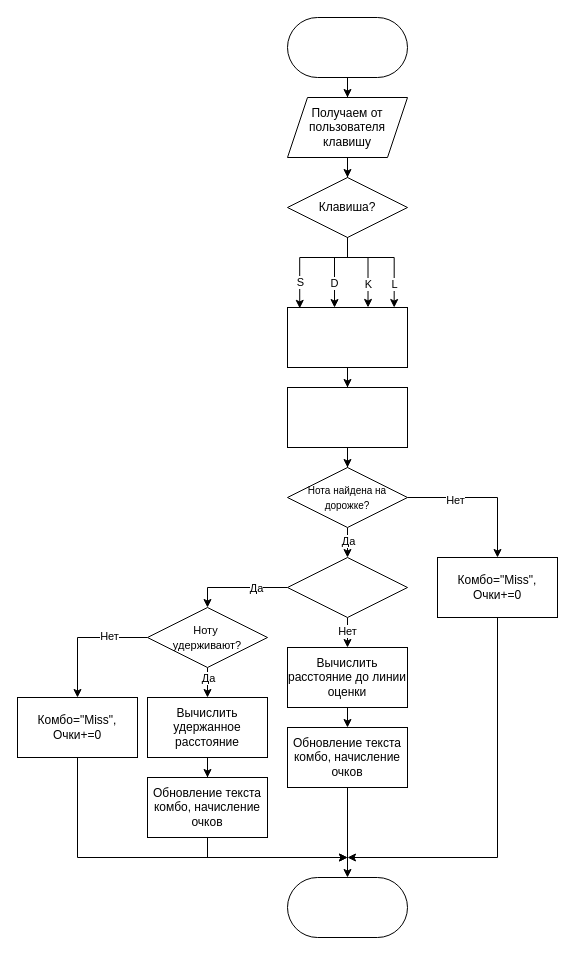
Some shapes in this 575 by 955 pixel diagram are drawn without their labels. The centre of each missing label's shape, as x and y in pixels:
"Берем ближайшую ноту" goes at [347,417].
"Джаджмент Конец" goes at [347,907].
"Джаджмент Начало" goes at [347,47].
"Дорожка = клавиша" goes at [347,337].
"Нота длинная?" goes at [347,587].
